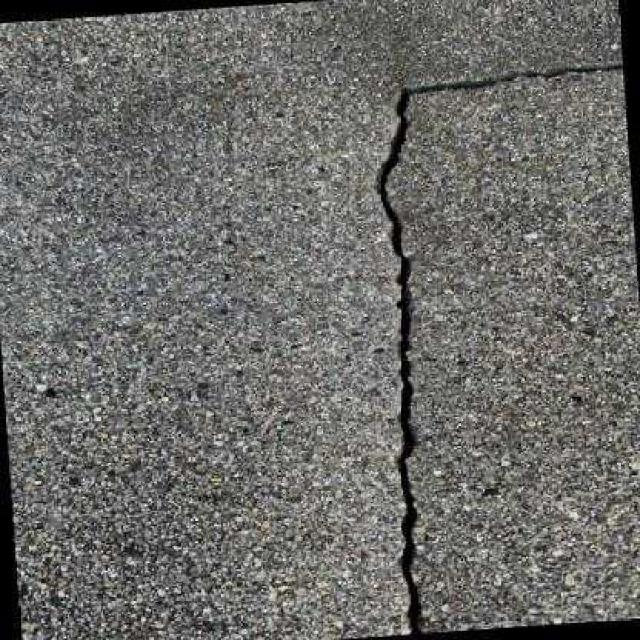D00: (371, 62, 621, 635)
